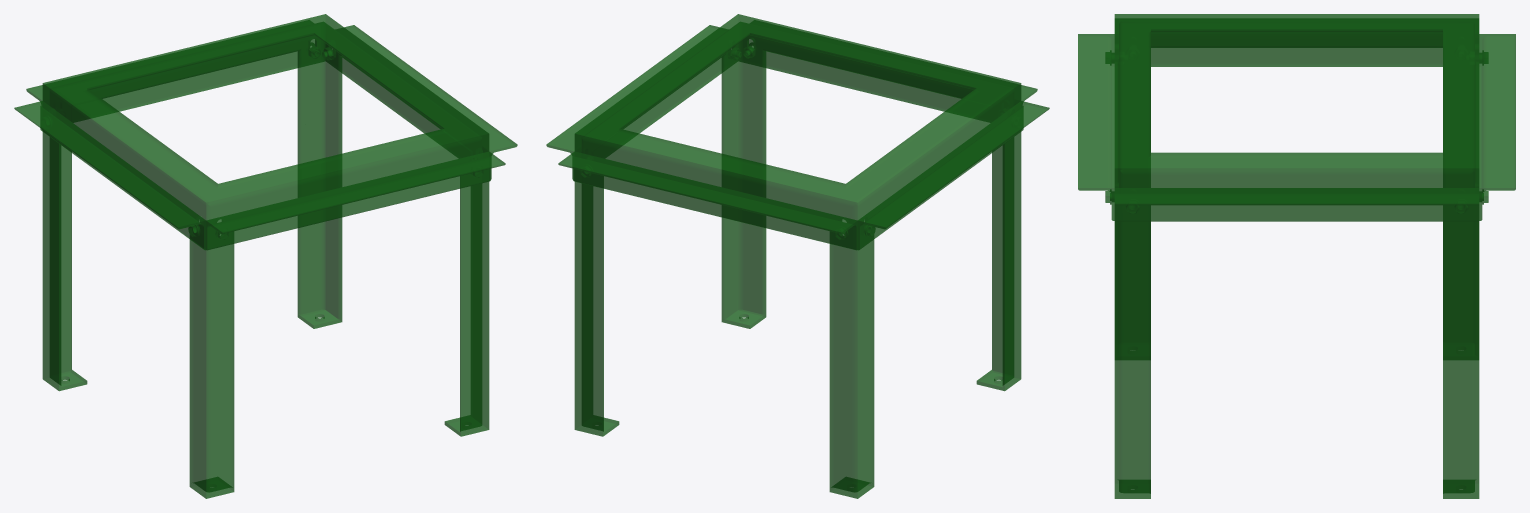
3 renders of one model, left to right at view 1: azimuth 30°, elevation 25°; view 2: azimuth 150°, elevation 25°; view 3: azimuth 270°, elevation 25°, orthographic. The views are drawn at different scales.
Visible parts, largest first — view 1: フリアク架台; view 2: フリアク架台; view 3: フリアク架台.
Boxes of the visible parts, x1,y1,x2,y2 form: フリアク架台: [14, 14, 517, 498]; フリアク架台: [546, 14, 1049, 498]; フリアク架台: [1078, 14, 1515, 498].
Size of the model in its own units: 6 by 5 by 6.
